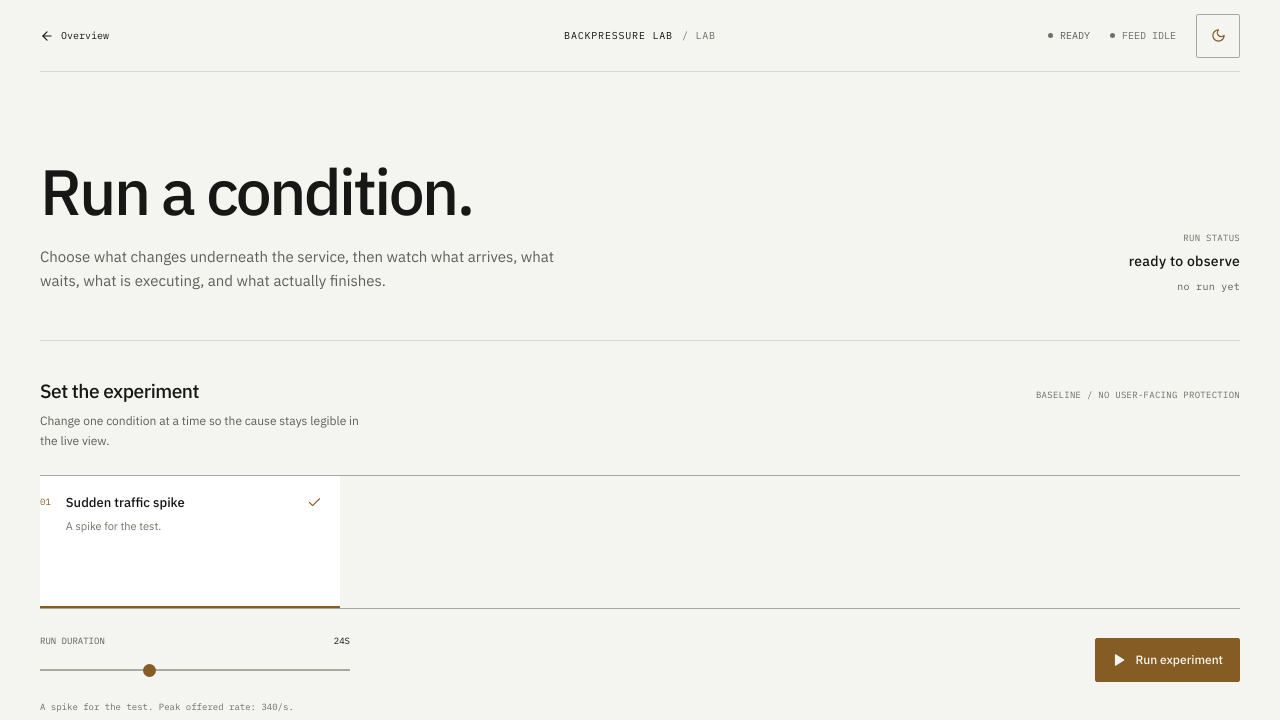
Test case: Backpressure Lab surfaces › starts a lab run and surfaces the live overload signal
Step 1. Click the button "Run experiment" → (1168, 660), box [1095,638,1240,682]
(page scrolled)
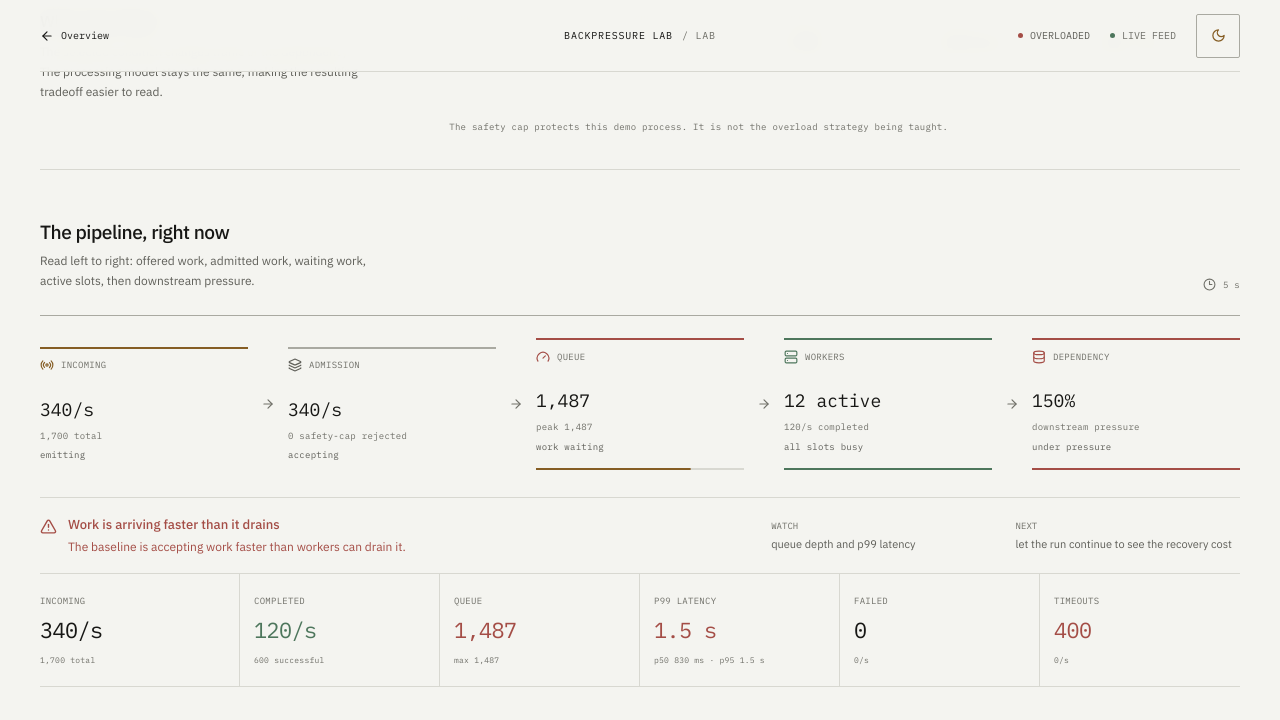
Check: the text "overloaded" is shown, box [1018,28,1090,43]
Check: the text "accepting work faster than workers can drain" is shown, box [68,539,406,554]
Check: the text "1,487" next to "12 active" is shown, box [536,389,590,412]
